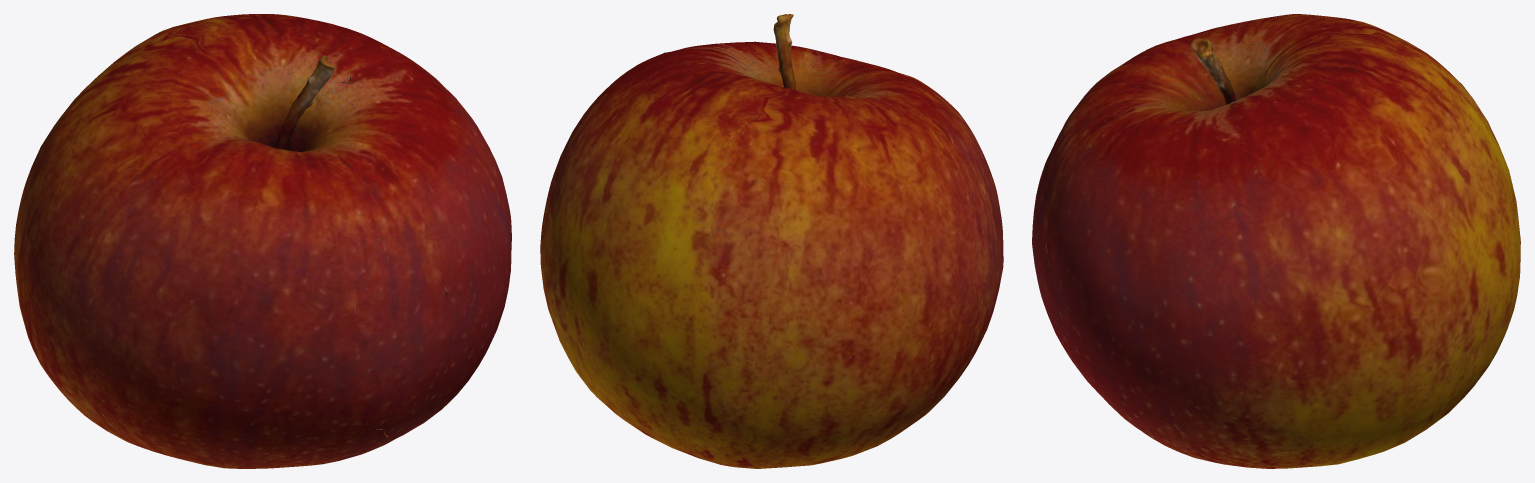
Rendered from realistic-apple.glb.
The picture shows the model from 3 angles, left to right: view 1: azimuth 30°, elevation 25°; view 2: azimuth 150°, elevation 25°; view 3: azimuth 270°, elevation 25°; orthographic projection. The views are drawn at different scales.
Visible parts, largest first — view 1: apple_apple_0; view 2: apple_apple_0; view 3: apple_apple_0.
Part boxes in pixels (x1,y1,x2,y2): apple_apple_0: [14, 14, 511, 468]; apple_apple_0: [540, 14, 1003, 468]; apple_apple_0: [1032, 14, 1520, 468].
Size of the model in its own units: 0.973 by 0.8601 by 0.9586.
1 material, 1 textured.
